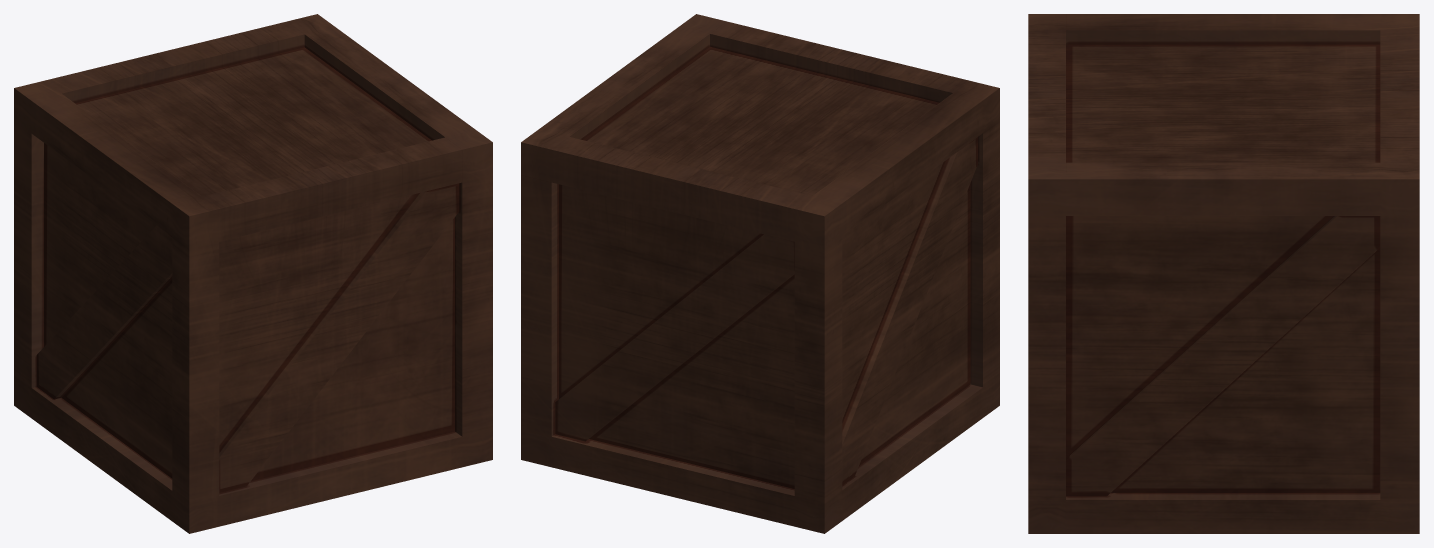
The model's file is Kiste_hell.fbx.
3 views of the same model, side by side, from view 1: azimuth 30°, elevation 25°; view 2: azimuth 150°, elevation 25°; view 3: azimuth 270°, elevation 25° (orthographic). The views are drawn at different scales.
Visible parts, largest first — view 1: kiste_dunkel.001; view 2: kiste_dunkel.001; view 3: kiste_dunkel.001.
Boxes of the visible parts, x1=… form: kiste_dunkel.001: x1=14, y1=14, x2=492, y2=533; kiste_dunkel.001: x1=521, y1=14, x2=999, y2=533; kiste_dunkel.001: x1=1028, y1=14, x2=1419, y2=533.
Bounding box in the file's own units: 350 × 350 × 350.
